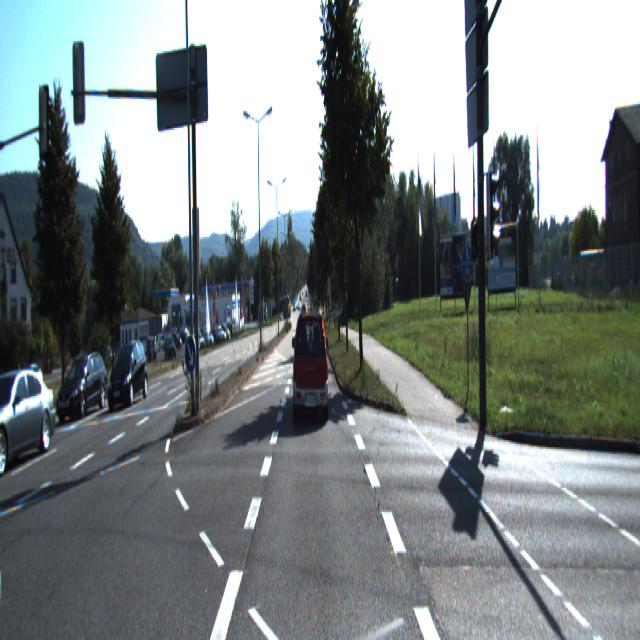Car: (0, 367, 55, 478), (293, 307, 328, 418), (56, 351, 109, 417), (106, 339, 149, 412)
